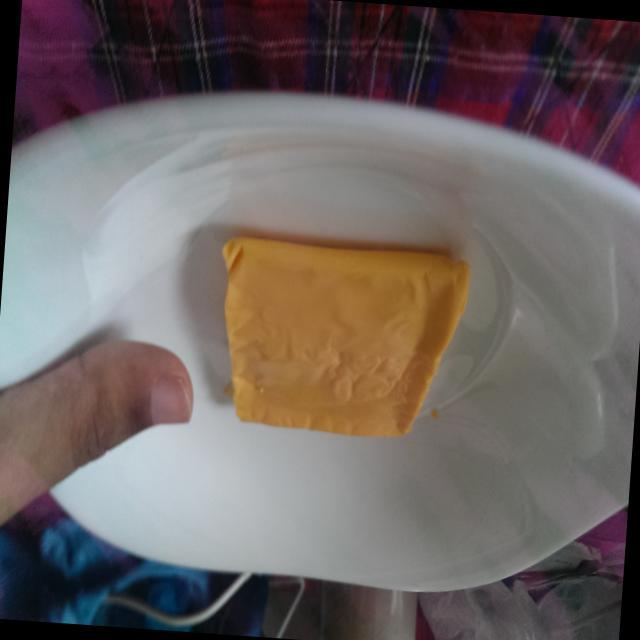Cheese: (205, 216, 478, 454)
Finger: (60, 318, 204, 500)
